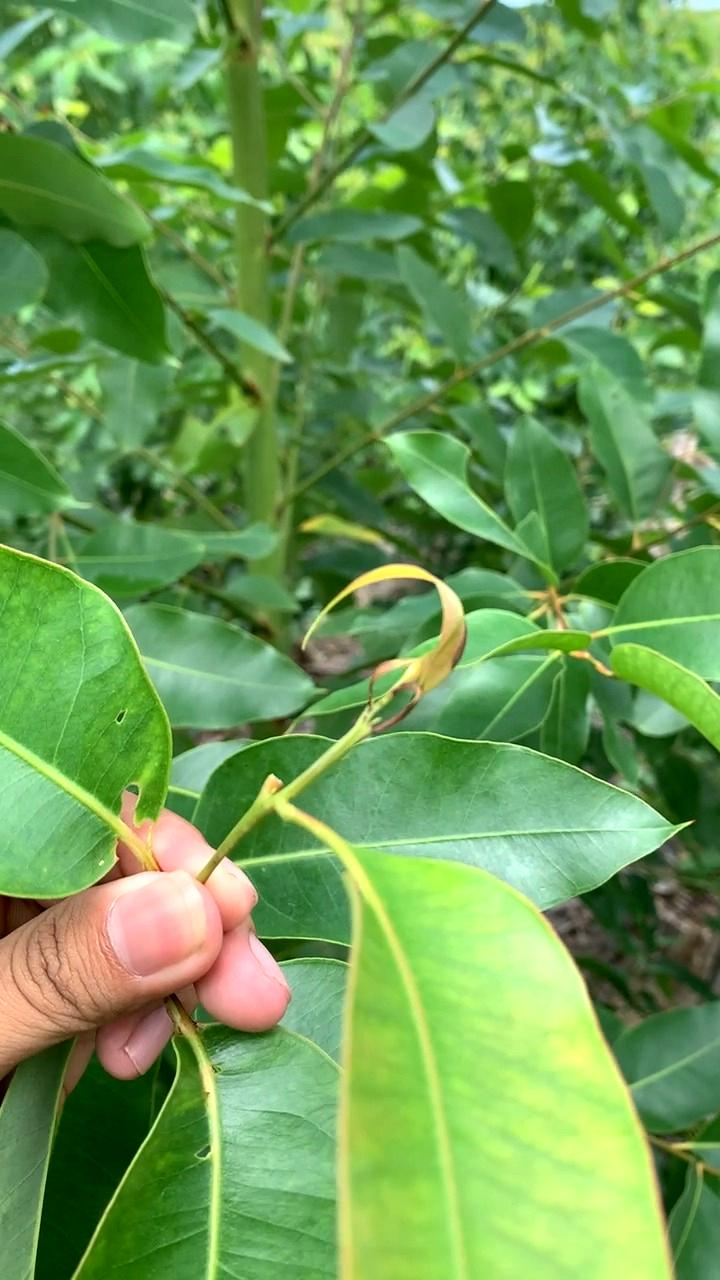Helopeltis-Withered Sprout: (288, 553, 475, 739)
